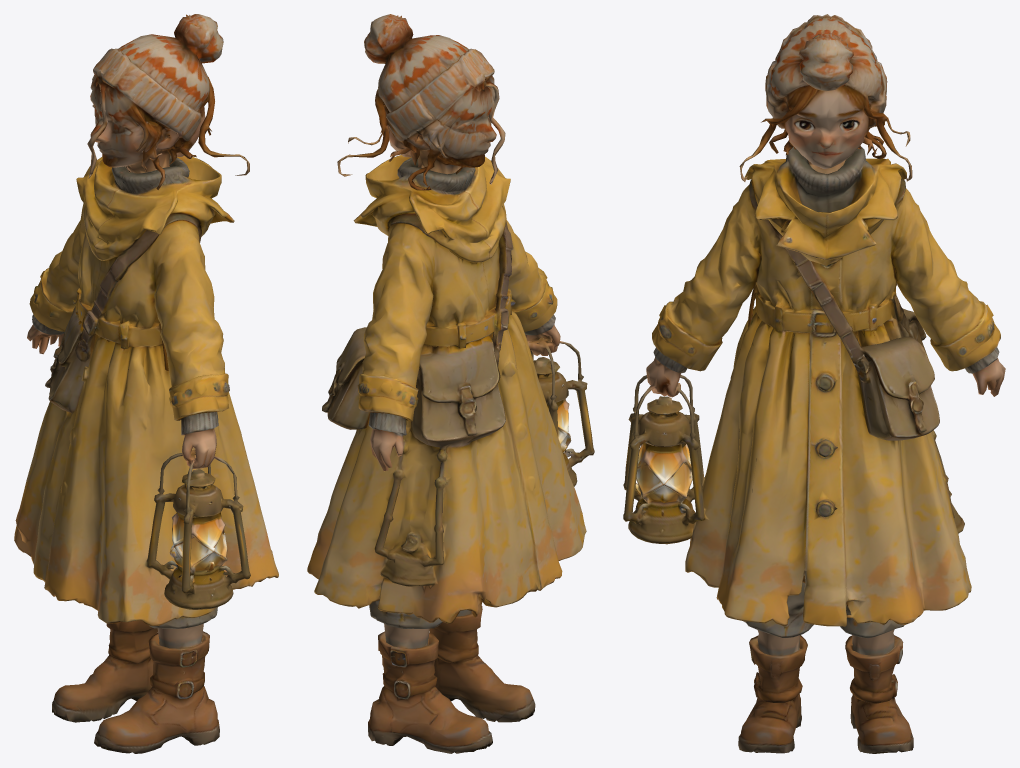
Rendered from keeper-tripo.glb.
3 renders of one model, left to right at view 1: azimuth 30°, elevation 25°; view 2: azimuth 150°, elevation 25°; view 3: azimuth 270°, elevation 25°, orthographic. The views are drawn at different scales.
Visible parts, largest first — view 1: tripo_node_c24f0710-64a8-49ea-999d-27d58048f07d; view 2: tripo_node_c24f0710-64a8-49ea-999d-27d58048f07d; view 3: tripo_node_c24f0710-64a8-49ea-999d-27d58048f07d.
Part boxes in pixels (x1=…): tripo_node_c24f0710-64a8-49ea-999d-27d58048f07d: x1=14, y1=14, x2=278, y2=753; tripo_node_c24f0710-64a8-49ea-999d-27d58048f07d: x1=307, y1=14, x2=594, y2=753; tripo_node_c24f0710-64a8-49ea-999d-27d58048f07d: x1=623, y1=14, x2=1005, y2=753.
Size of the model in its own units: 0.3027 by 1 by 0.4754.
Materials: 1 (1 with a texture image).
